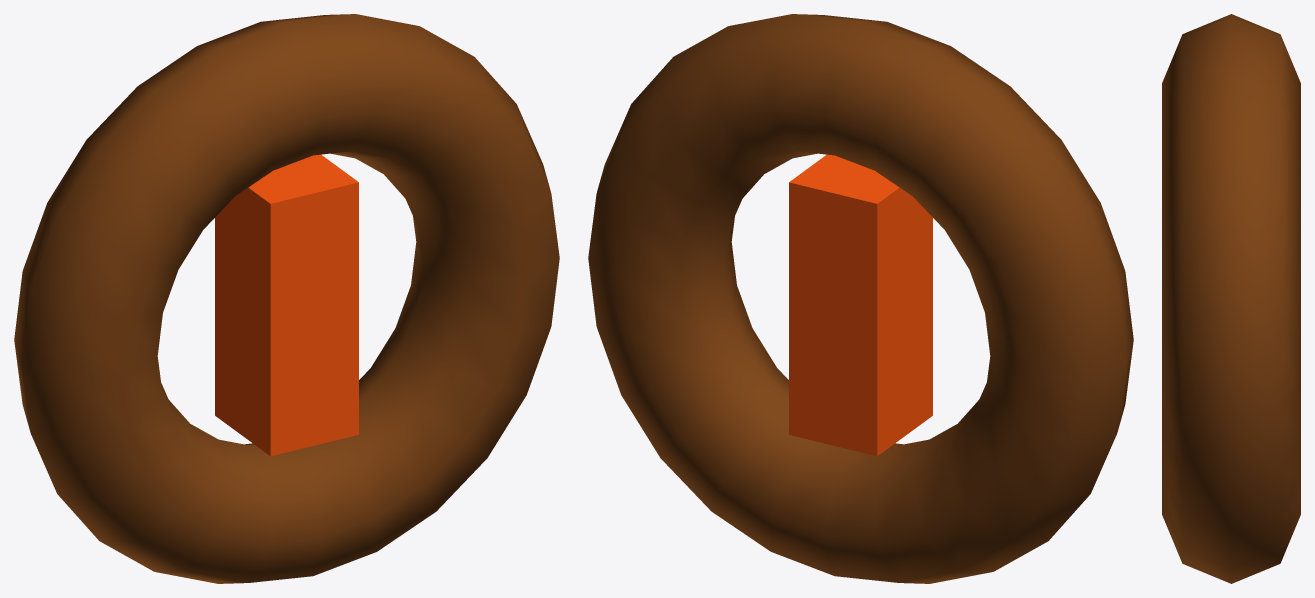
File: SM_PickupCredit.obj
3 renders of one model, left to right at view 1: azimuth 30°, elevation 25°; view 2: azimuth 150°, elevation 25°; view 3: azimuth 270°, elevation 25°, orthographic. The views are drawn at different scales.
Visible parts, largest first — view 1: SM_PickupCredit; view 2: SM_PickupCredit; view 3: SM_PickupCredit.
Boxes of the visible parts, left/top/right/bottom form: SM_PickupCredit: left=14, top=14, right=559, bottom=583; SM_PickupCredit: left=588, top=14, right=1133, bottom=583; SM_PickupCredit: left=1162, top=14, right=1300, bottom=583.
Bounding box in the file's own units: 66 × 66 × 16.
